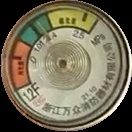green: (18, 16, 54, 46)
needle: (35, 18, 53, 45)
red: (10, 40, 34, 90)
yellow: (48, 4, 100, 34)
